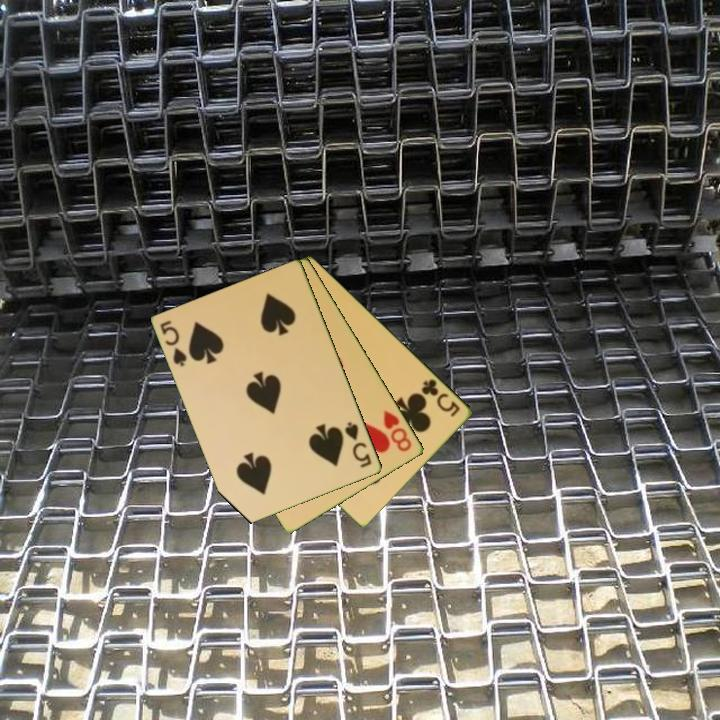5c: (418, 375, 463, 420)
5s: (342, 418, 375, 471), (157, 317, 190, 370)
8h: (380, 407, 415, 455)
